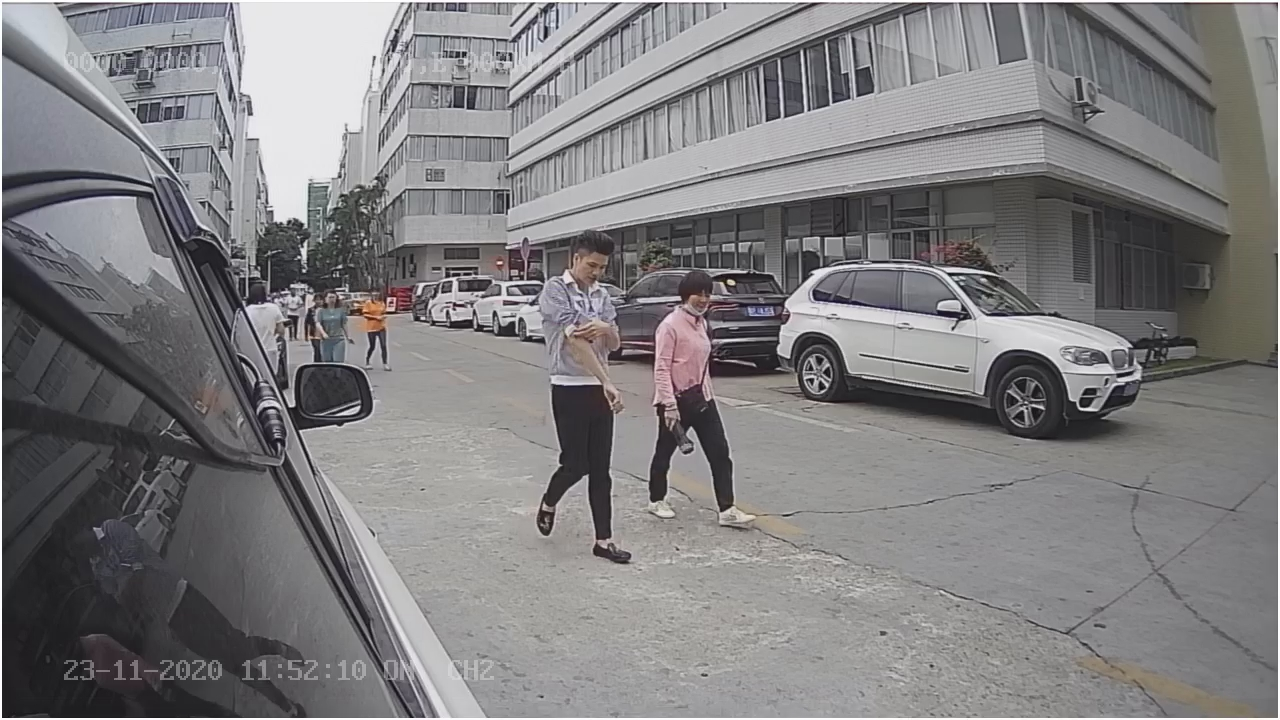person: (529, 229, 635, 563), (647, 261, 752, 529)
